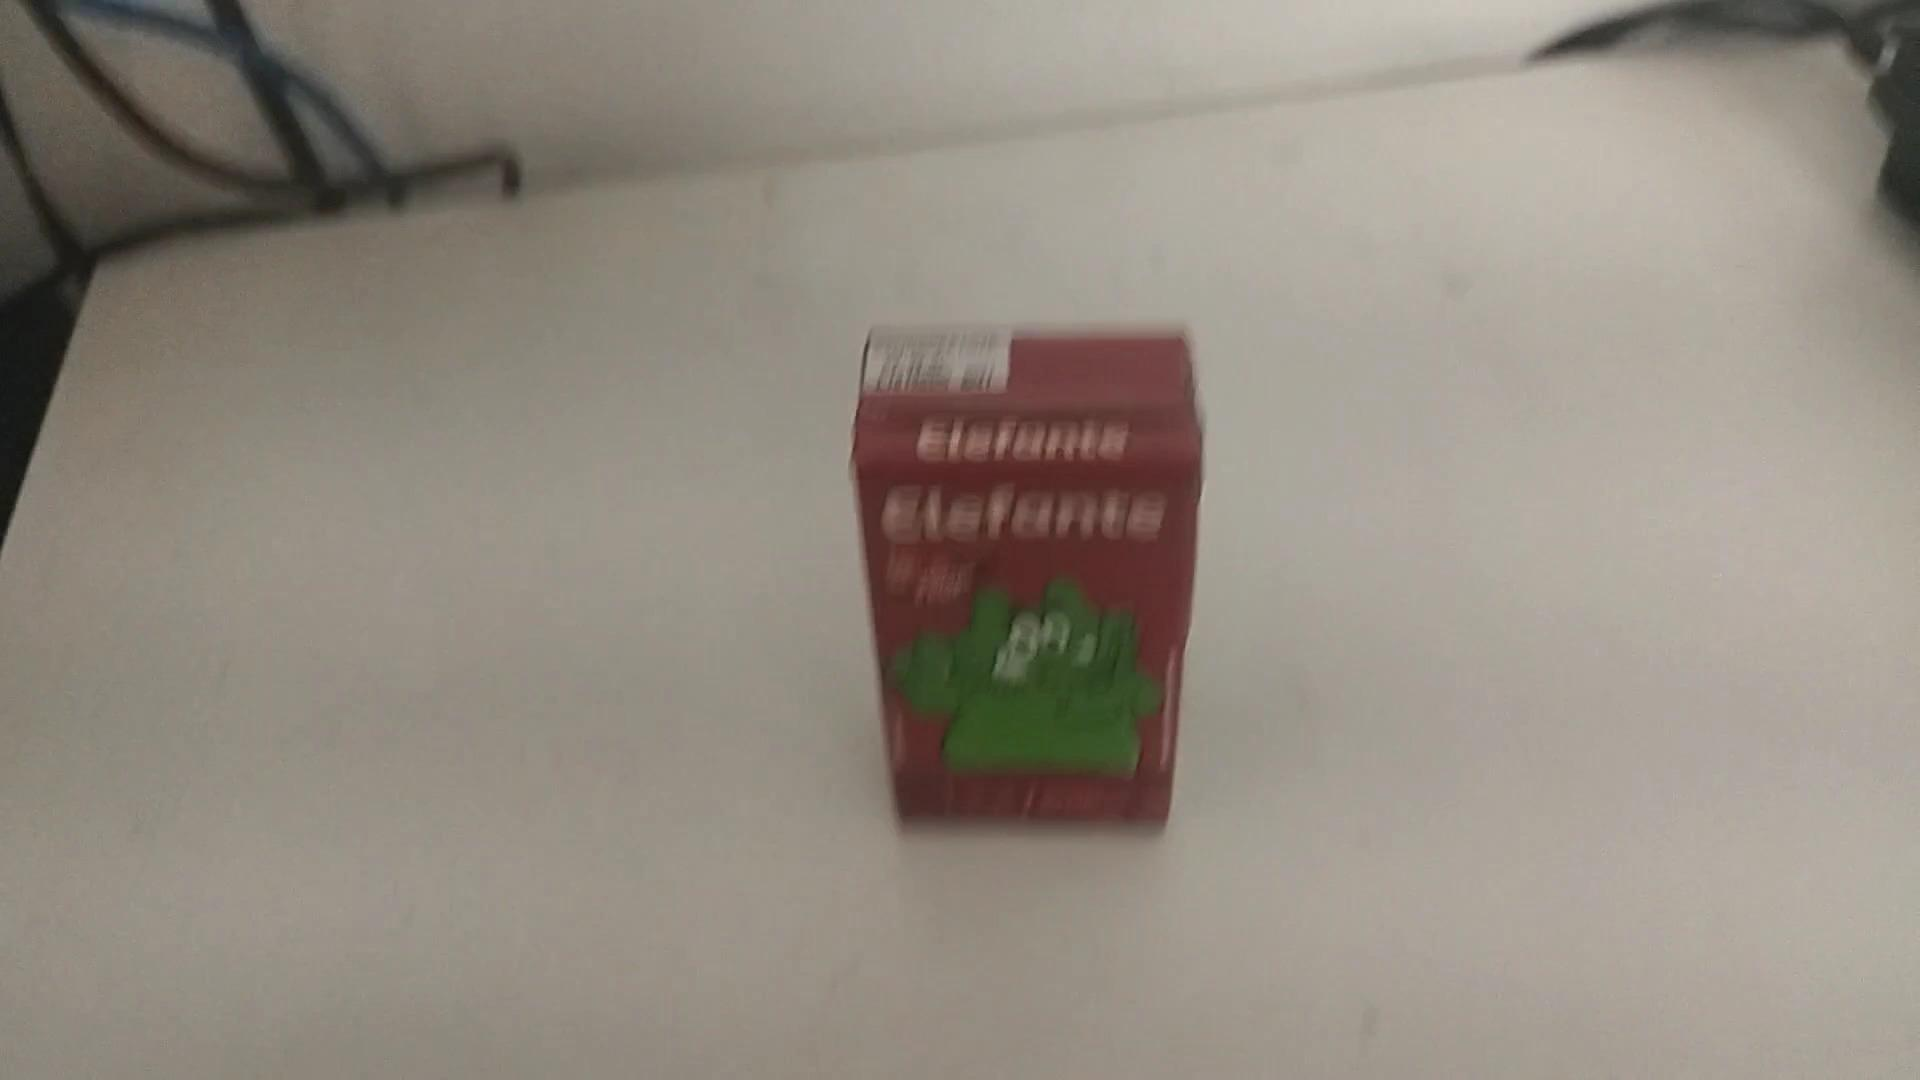tomate: (836, 313, 1209, 836)
